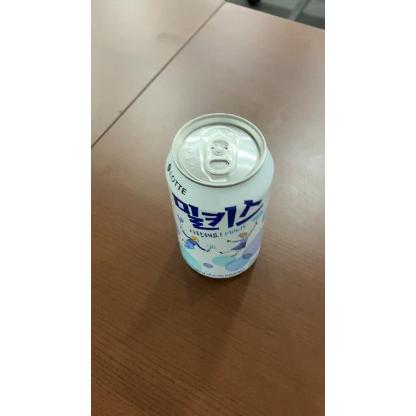Can: (164, 110, 276, 280)
